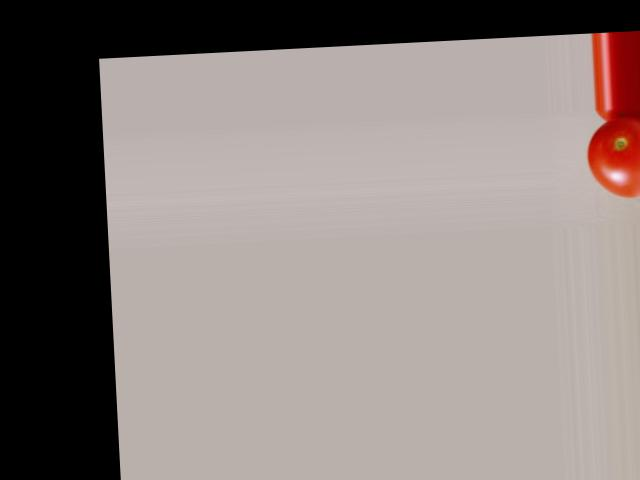tomato: (585, 115, 640, 199)
